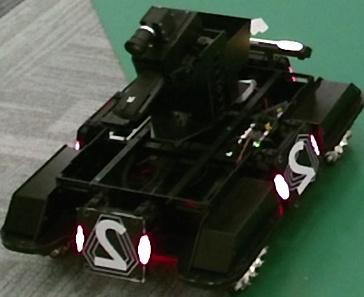armor_2: (75, 223, 152, 265), (276, 135, 320, 201)
